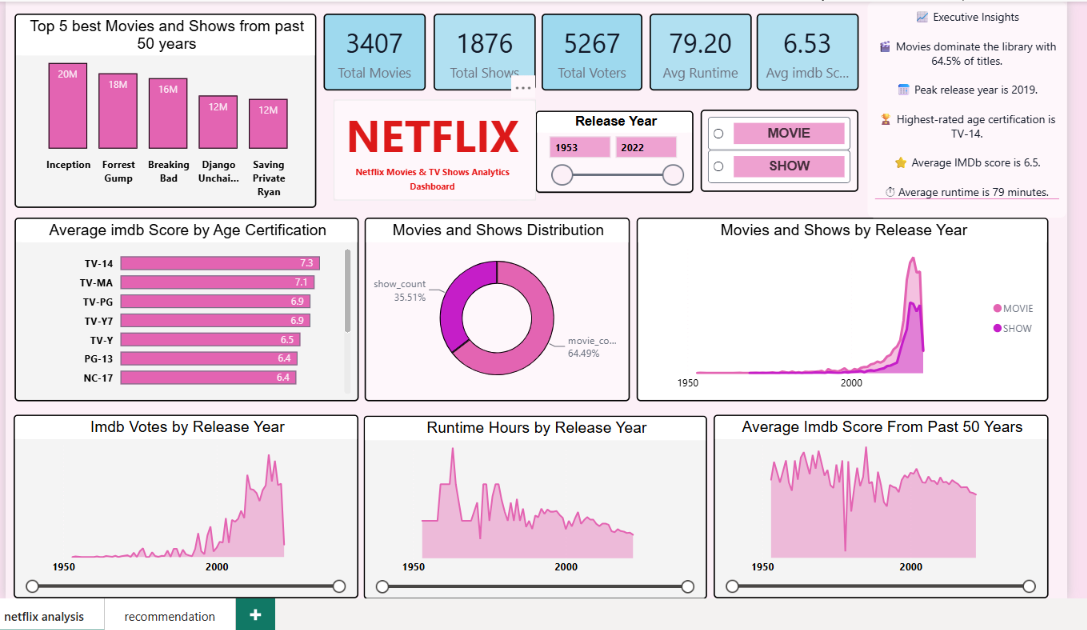

The dashboard page shown, as its layout file describes it:
{"tool":"powerbi","page":{"name":"netflix analysis","canvas":[1280,720],"ordinal":0},"visuals":[{"type":"card","fields":{"Values":["Netflix TV Shows and Movies.movie"]},"box":[383.6,14.5,123.1,92.9],"z":0},{"type":"card","fields":{"Values":["Netflix TV Shows and Movies.show_count"]},"box":[516.4,14.5,123.1,92.9],"z":1000},{"type":"donutChart","title":"Movies and Shows Distribution","fields":{"Y":["Netflix TV Shows and Movies.movie_count","Netflix TV Shows and Movies.show_count"]},"box":[433.1,260.6,319.7,222],"z":2000},{"type":"lineChart","title":"Average Imdb Score From Past 50 Years","fields":{"Category":["Netflix TV Shows and Movies.release_year"],"Y":["Avg(Netflix TV Shows and Movies.imdb_score)"]},"box":[854.2,498.3,404.2,222],"z":3000},{"type":"lineChart","title":" Imdb Votes by Release Year","fields":{"Category":["Netflix TV Shows and Movies.release_year"],"Y":["Sum(Netflix TV Shows and Movies.imdb_votes)"]},"box":[9.7,498.3,416.2,222],"z":4000},{"type":"lineChart","title":"Runtime Hours by Release Year","fields":{"Category":["Netflix TV Shows and Movies.release_year"],"Y":["Avg(Netflix TV Shows and Movies.runtime hours)"]},"box":[431.7,498.9,414.5,221.3],"z":5000},{"type":"barChart","title":"Average imdb Score by Age Certification","fields":{"Category":["Netflix TV Shows and Movies.age_certification"],"Y":["Avg(Netflix TV Shows and Movies.imdb_score)"]},"box":[10.9,260.6,415,222],"z":6000},{"type":"advancedSlicerVisual","fields":{"Values":["Netflix TV Shows and Movies.type"]},"box":[838.5,130.3,190.6,98.9],"z":7000},{"type":"slicer","title":"Release Year","fields":{"Values":["Netflix TV Shows and Movies.release_year"]},"box":[639.4,131.5,190.6,98.9],"z":8000},{"type":"areaChart","title":" Movies and Shows by Release Year","fields":{"Category":["Netflix TV Shows and Movies.release_year"],"Series":["Netflix TV Shows and Movies.type"],"Y":["CountNonNull(Netflix TV Shows and Movies.type)"]},"box":[761.3,260.6,497.1,222],"z":9000},{"type":"textbox","box":[395.7,118.2,243.7,121.9],"z":10000},{"type":"card","fields":{"Values":["Netflix TV Shows and Movies.total_voters"]},"box":[646.7,14.5,121.9,92.9],"z":11000},{"type":"clusteredColumnChart","title":"Top 5 best Movies and Shows from past 50 years","fields":{"Category":["Netflix TV Shows and Movies.title"],"Y":["Avg(Netflix TV Shows and Movies.final rating)"]},"box":[10.9,14.5,364.3,234],"z":12000},{"type":"card","fields":{"Values":["Avg(Netflix TV Shows and Movies.runtime)"]},"box":[776.9,14.5,123.1,92.9],"z":13000},{"type":"card","fields":{"Values":["Avg(Netflix TV Shows and Movies.imdb_score)"]},"box":[906,14.5,123.1,92.9],"z":14000},{"type":"textbox","box":[1040,0,240.1,260.6],"z":14001}]}

Visuals, with their boxes on the page's 1280x720 design canvas (x1, y1, x2, y2). These are canvas units, not pixel positions in the 1087x630 screenshot, which may show the page scaled, cropped or inside an application window:
card - Netflix TV Shows and Movies.movie: (left=384, top=14, right=507, bottom=107)
card - Netflix TV Shows and Movies.show_count: (left=516, top=14, right=640, bottom=107)
"Movies and Shows Distribution" donutChart: (left=433, top=261, right=753, bottom=483)
"Average Imdb Score From Past 50 Years" lineChart: (left=854, top=498, right=1258, bottom=720)
" Imdb Votes by Release Year" lineChart: (left=10, top=498, right=426, bottom=720)
"Runtime Hours by Release Year" lineChart: (left=432, top=499, right=846, bottom=720)
"Average imdb Score by Age Certification" barChart: (left=11, top=261, right=426, bottom=483)
advancedSlicerVisual - Netflix TV Shows and Movies.type: (left=838, top=130, right=1029, bottom=229)
"Release Year" slicer: (left=639, top=132, right=830, bottom=230)
" Movies and Shows by Release Year" areaChart: (left=761, top=261, right=1258, bottom=483)
textbox: (left=396, top=118, right=639, bottom=240)
card - Netflix TV Shows and Movies.total_voters: (left=647, top=14, right=769, bottom=107)
"Top 5 best Movies and Shows from past 50 years" clusteredColumnChart: (left=11, top=14, right=375, bottom=248)
card - Avg(Netflix TV Shows and Movies.runtime): (left=777, top=14, right=900, bottom=107)
card - Avg(Netflix TV Shows and Movies.imdb_score): (left=906, top=14, right=1029, bottom=107)
textbox: (left=1040, top=0, right=1280, bottom=261)
